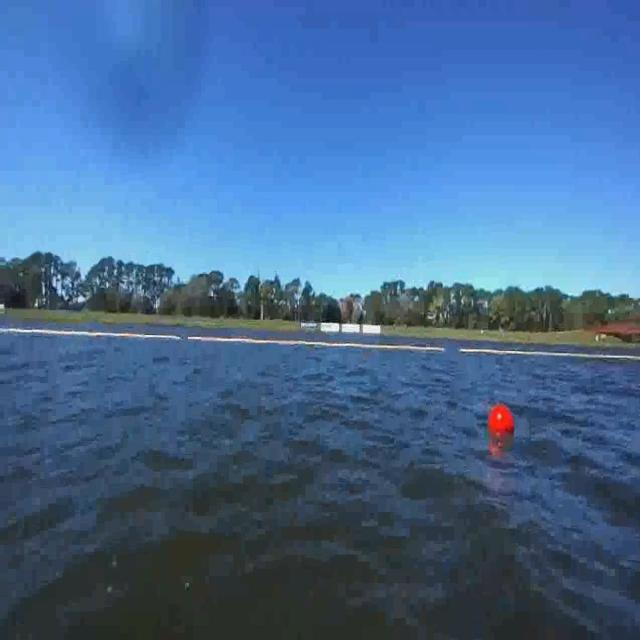red-buoy: (488, 404, 514, 441)
